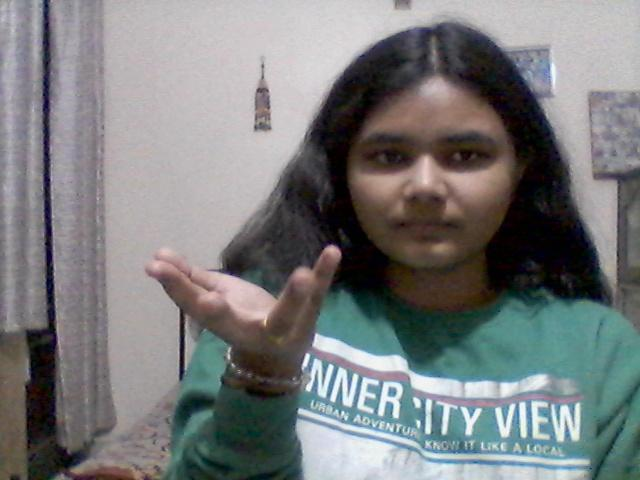what: (140, 226, 350, 389)
